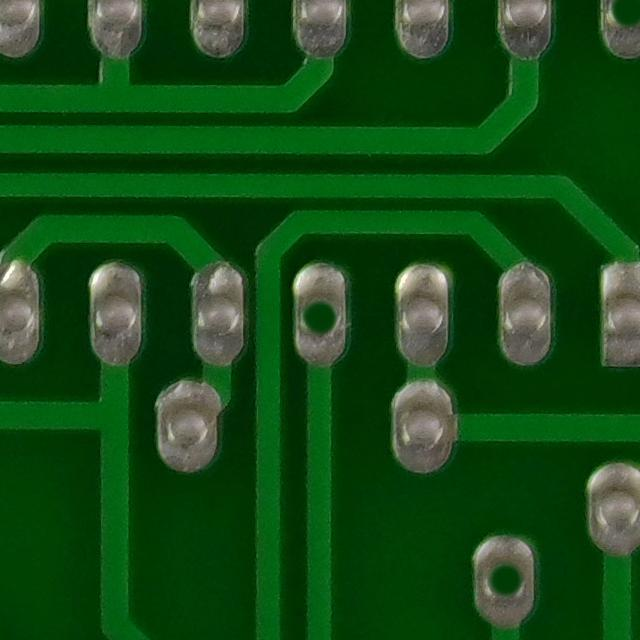missing_hole: (467, 540, 546, 621), (285, 278, 359, 360), (591, 1, 640, 52)
